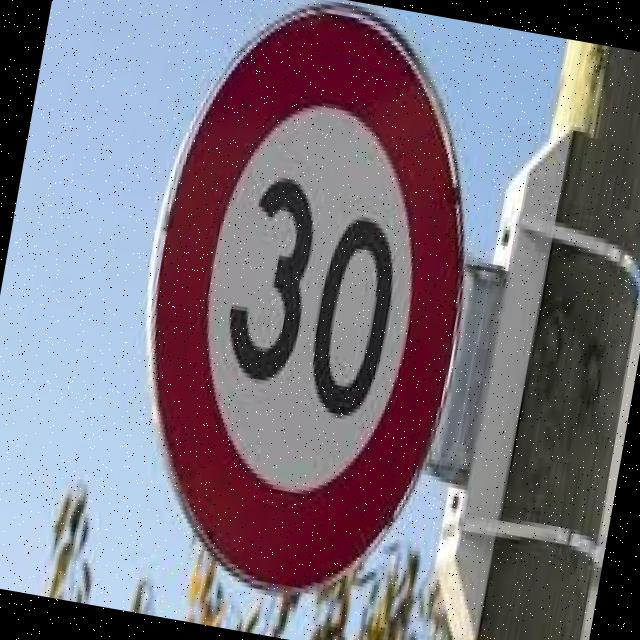speed_limit_30: (96, 0, 514, 622)
